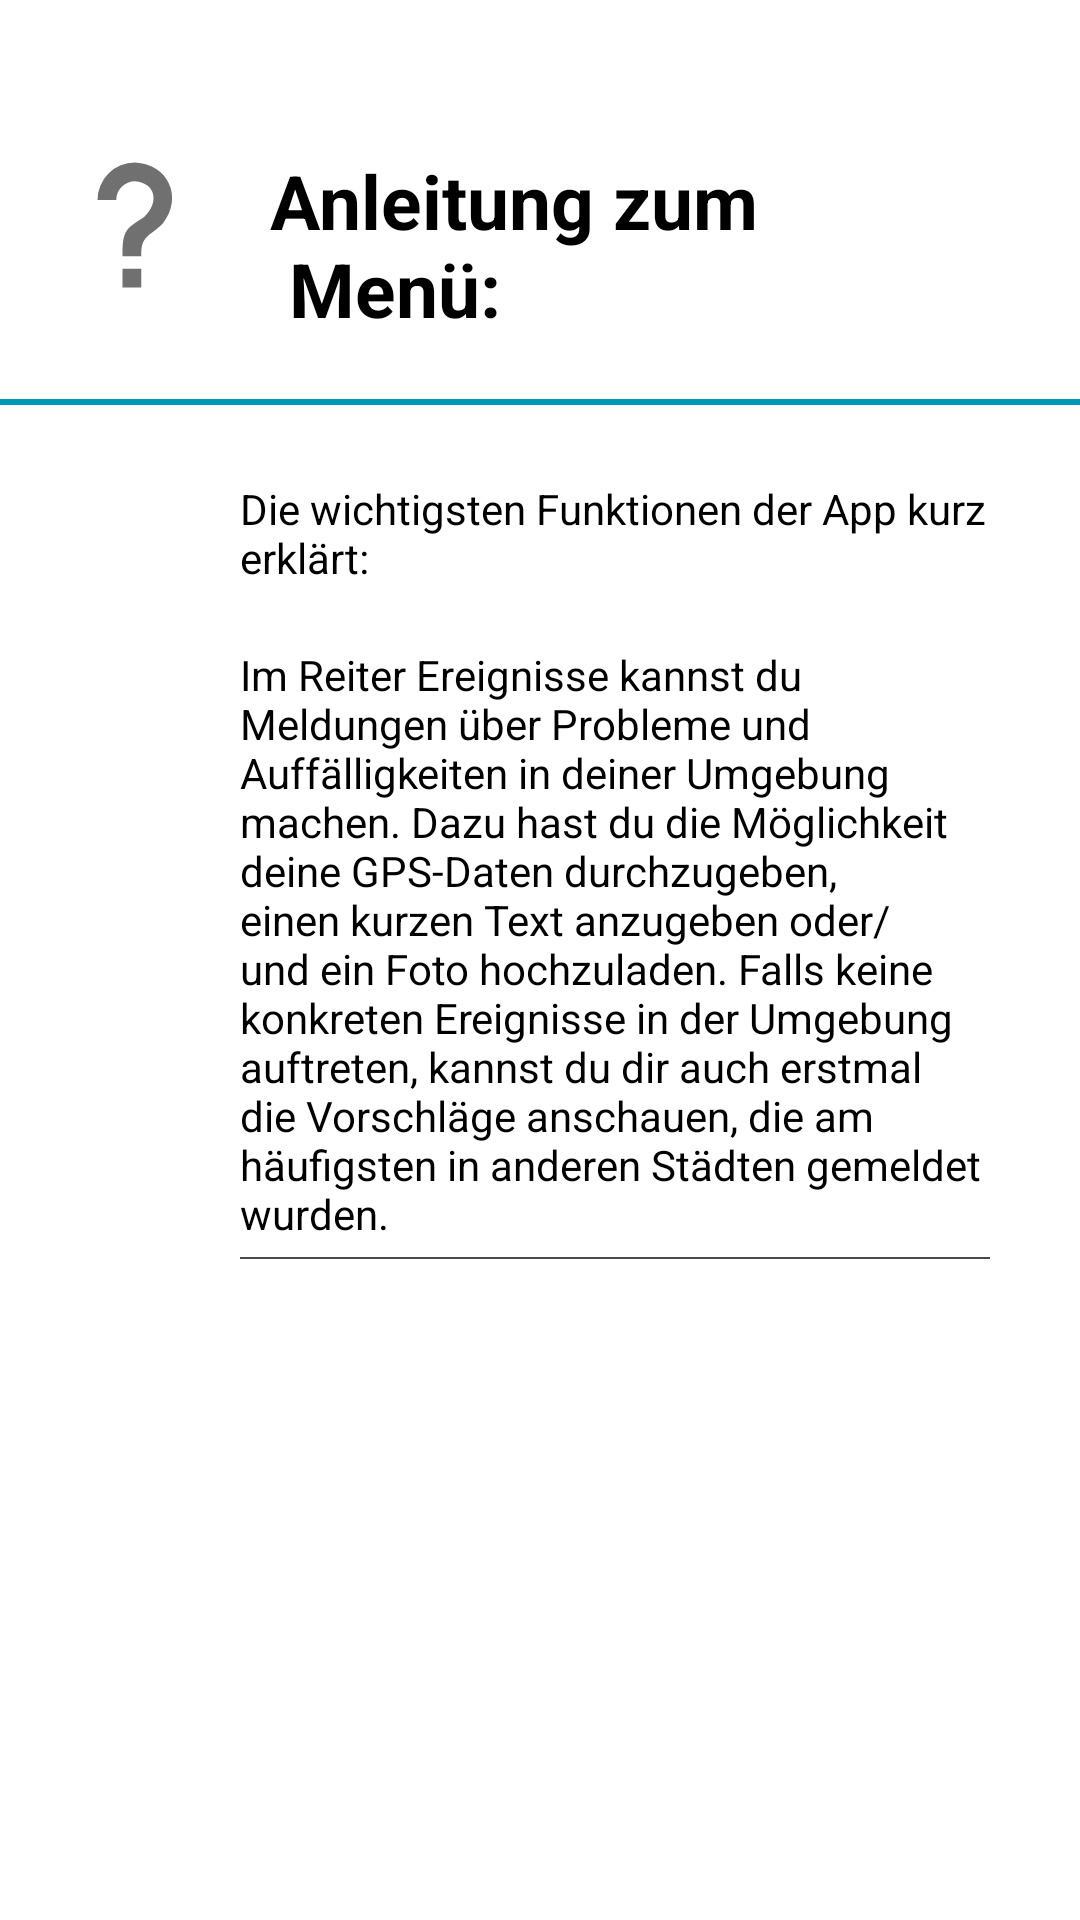

Point at icon controls on the screen. Image size 1080px×1920px, points as [x,y].
help: [134,225]
